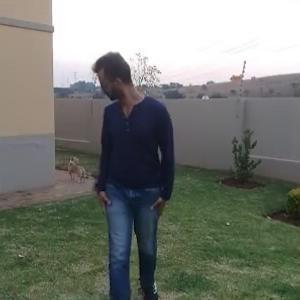follow: (91, 30, 173, 255)
